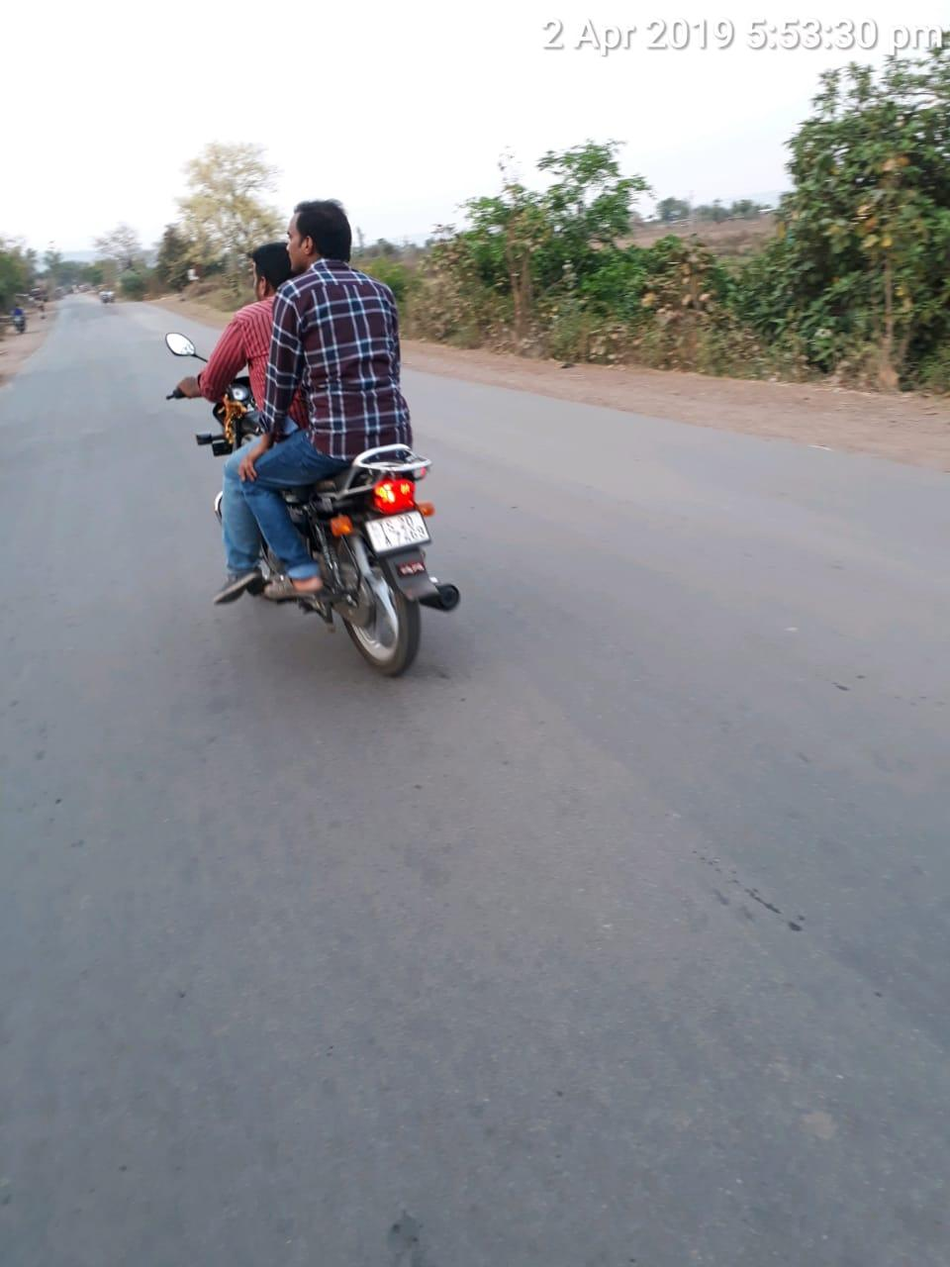plate: (359, 506, 433, 559)
